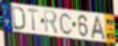6: (77, 14, 89, 39)
A: (90, 15, 107, 41)
C: (58, 12, 73, 36)
D: (12, 6, 26, 32)
R: (43, 9, 59, 36)
T: (27, 8, 40, 33)
